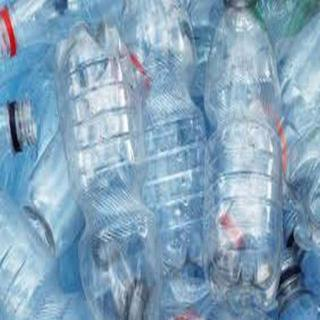Plastic-bottle: (51, 18, 160, 320), (208, 1, 284, 313)
